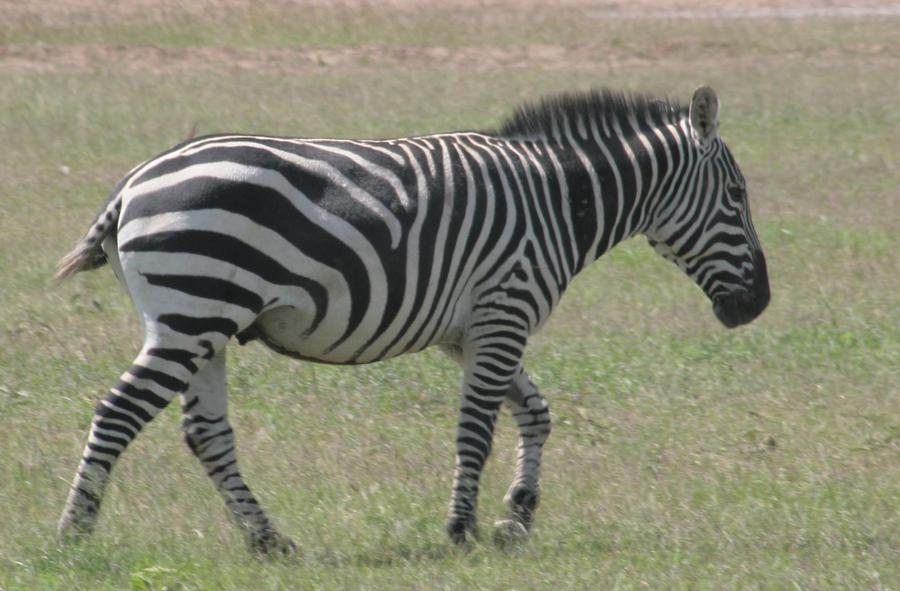zebra_plains: (116, 102, 585, 377)
